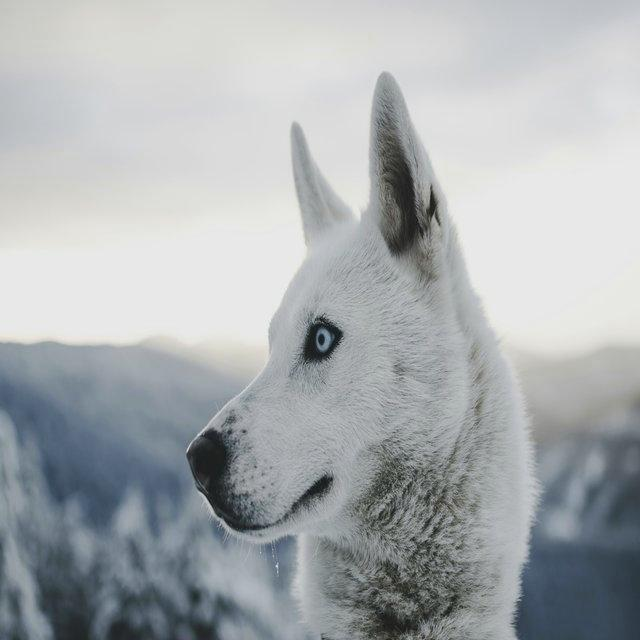husky: (184, 69, 543, 638)
